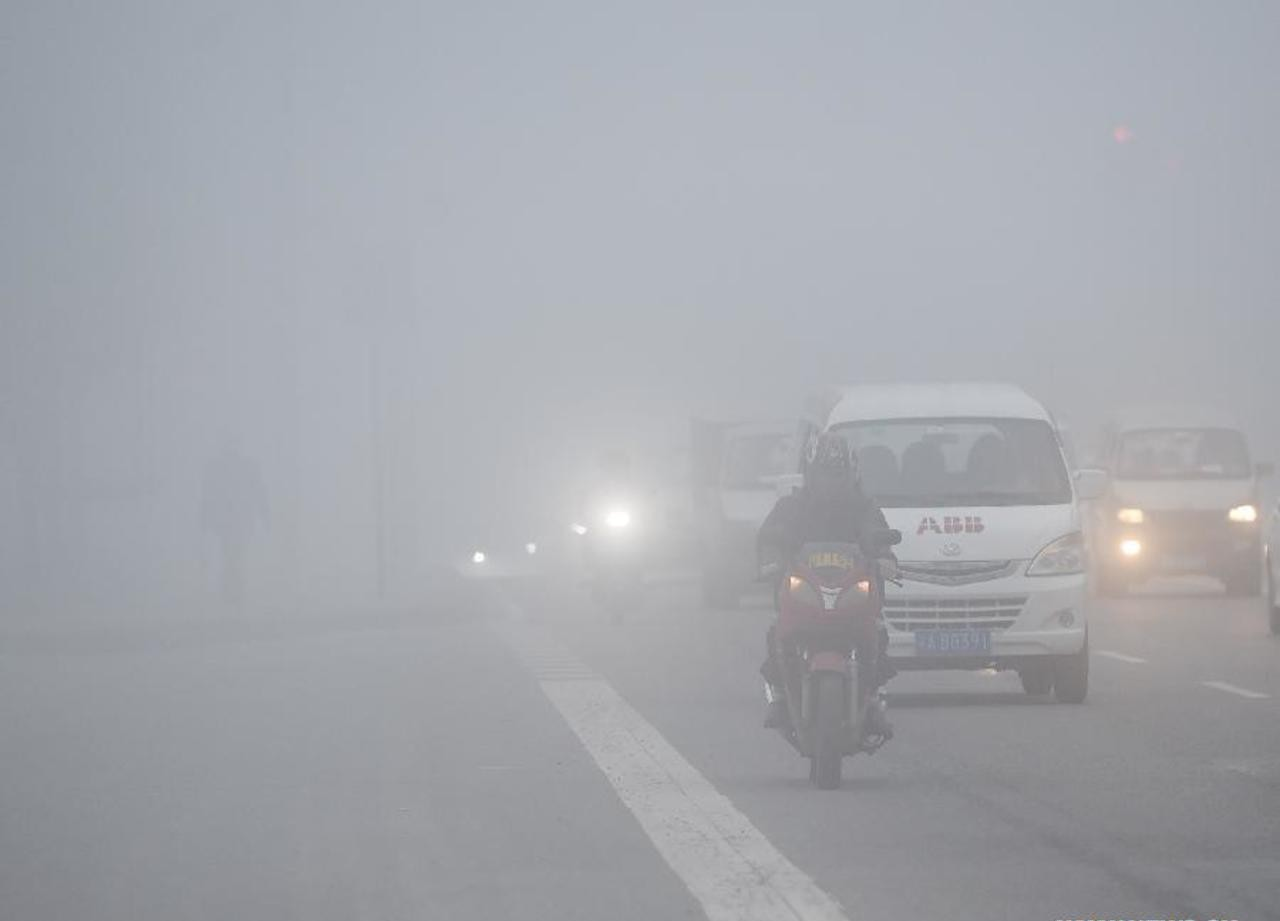car: (801, 384, 1098, 706), (1088, 429, 1271, 605), (692, 409, 790, 602)
motorcycle: (761, 555, 900, 788), (579, 510, 651, 621)
person: (764, 426, 888, 724), (586, 443, 651, 576)
